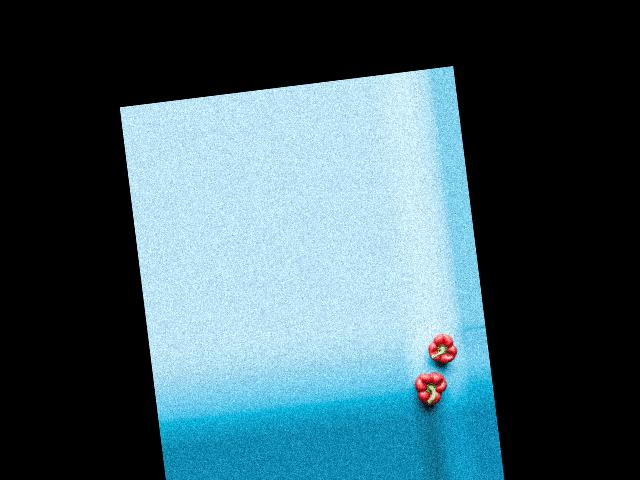bell_pepper: (413, 363, 453, 410)
